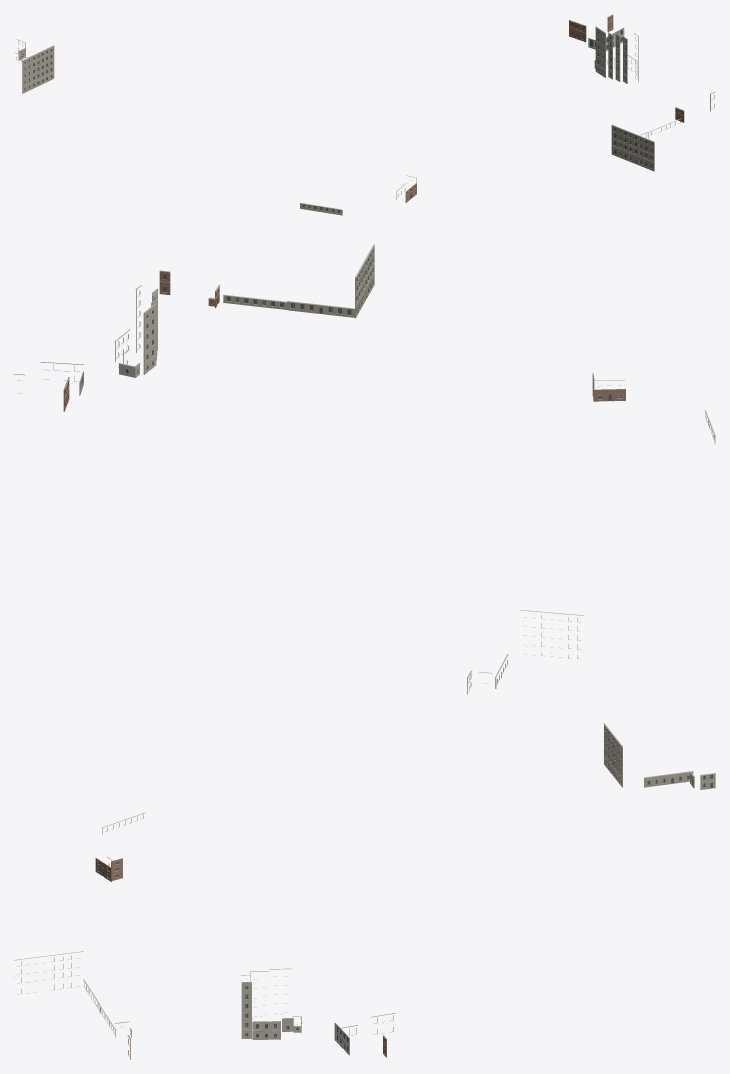
3 views of the same model, one above another, from view 1: azimuth 30°, elevation 25°; view 2: azimuth 150°, elevation 25°; view 3: azimuth 270°, elevation 25° (orthographic). The views are drawn at different scales.
Visible parts, largest first — view 1: f:way/136211507, f:way/157556187, f:way/761701363, f:way/136336453; view 2: f:way/136211507, f:way/157556187; view 3: f:way/761701363, f:way/157556187.
Part boxes in pixels (x1,y1,x2,y2): f:way/136211507: [611, 118, 681, 171]; f:way/157556187: [594, 26, 638, 83]; f:way/761701363: [14, 39, 54, 93]; f:way/136336453: [569, 14, 613, 42]; f:way/136211507: [223, 244, 374, 318]; f:way/157556187: [114, 285, 158, 377]; f:way/761701363: [603, 723, 715, 789]; f:way/157556187: [241, 968, 302, 1039].
Bounding box in the file's own units: 257 × 26.29 × 253.
